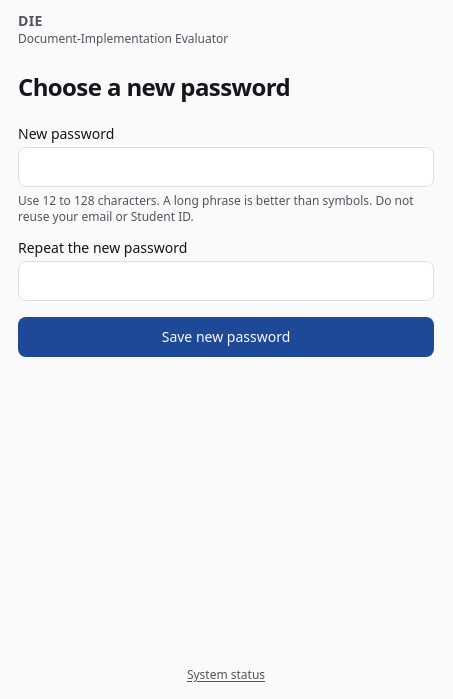
Test case: Reset password › checks the policy and the confirmation locally
Type "tiny" into the password field labelled "New password".
click(226, 167); type("tiny")  # box 18,147 -> 434,187
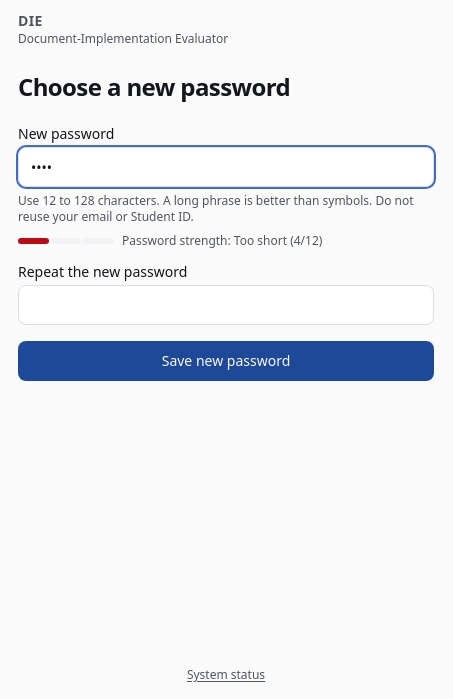
Click the button "Save new password".
click(226, 361)  # box 18,341 -> 434,381
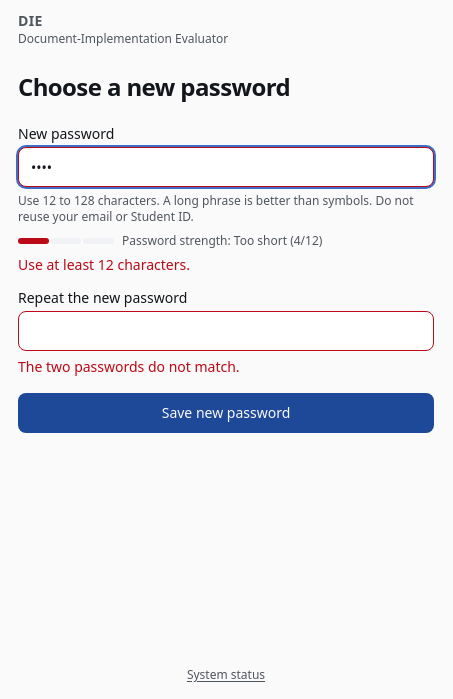
Expected: the text "Use at least 12 characters." is shown, 18,255 -> 190,274
